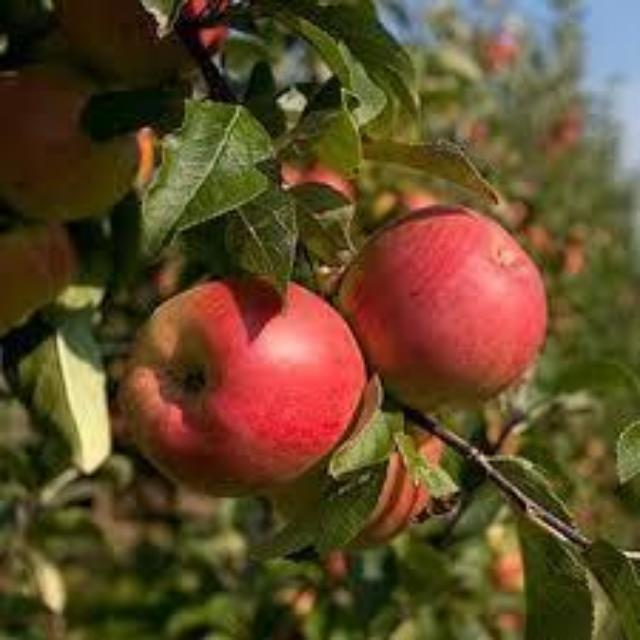apple: (119, 276, 364, 495), (338, 205, 546, 410), (0, 65, 137, 219), (330, 449, 430, 549), (270, 466, 324, 515), (410, 430, 441, 464)
